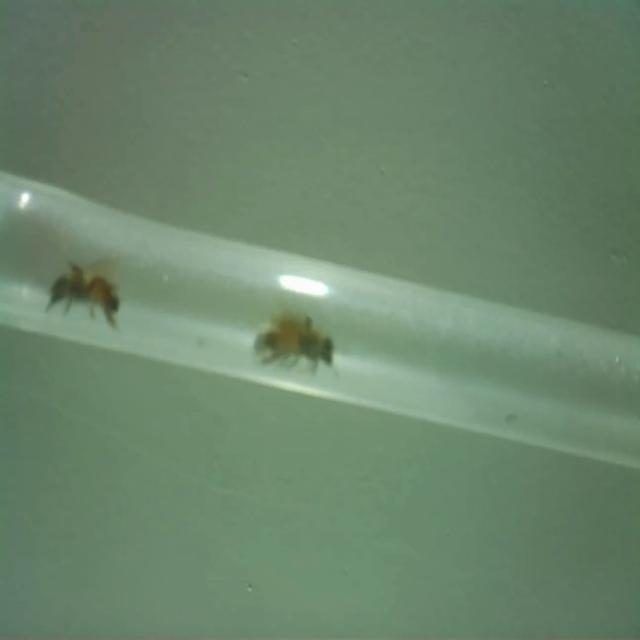Honeybee-Detection: (253, 300, 339, 377), (45, 252, 121, 329), (278, 275, 328, 298)
